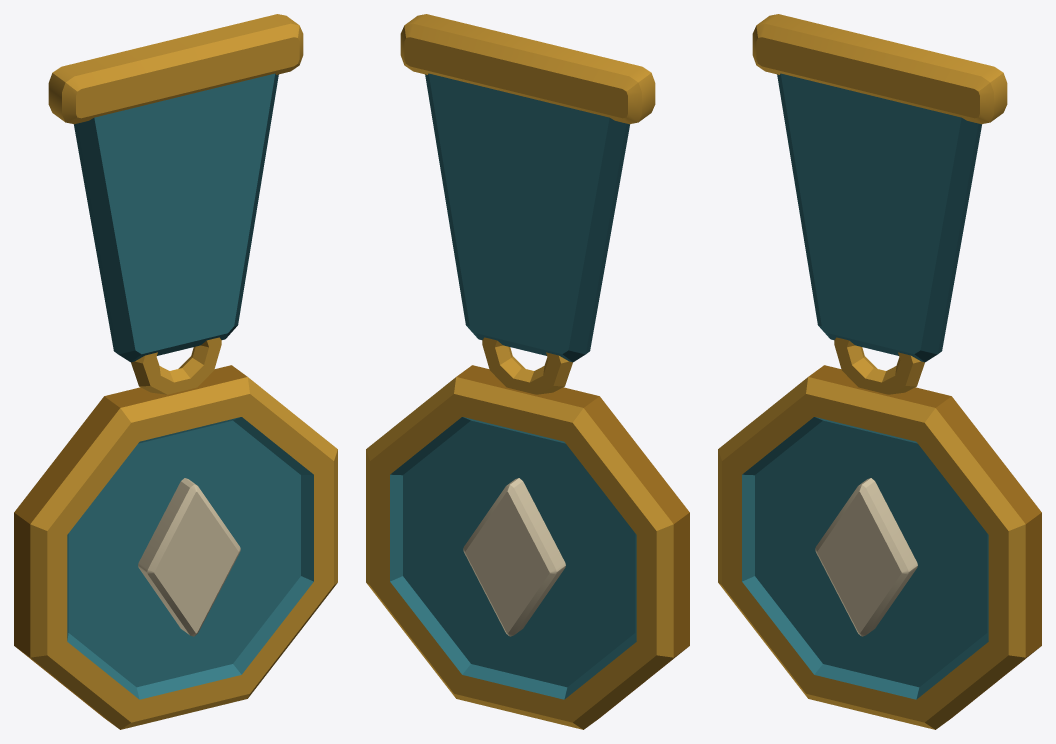
Rendered from Medal_04.glb.
3 views of the same model, side by side, from view 1: azimuth 30°, elevation 25°; view 2: azimuth 150°, elevation 25°; view 3: azimuth 330°, elevation 25° (orthographic).
Parts seen in each view (by area): view 1: Medal_04; view 2: Medal_04; view 3: Medal_04.
Part boxes in pixels (bbox=[...]): Medal_04: bbox=[14, 14, 337, 729]; Medal_04: bbox=[366, 14, 689, 729]; Medal_04: bbox=[718, 14, 1041, 729].
Size of the model in its own units: 1.21 by 2.49 by 0.28.
